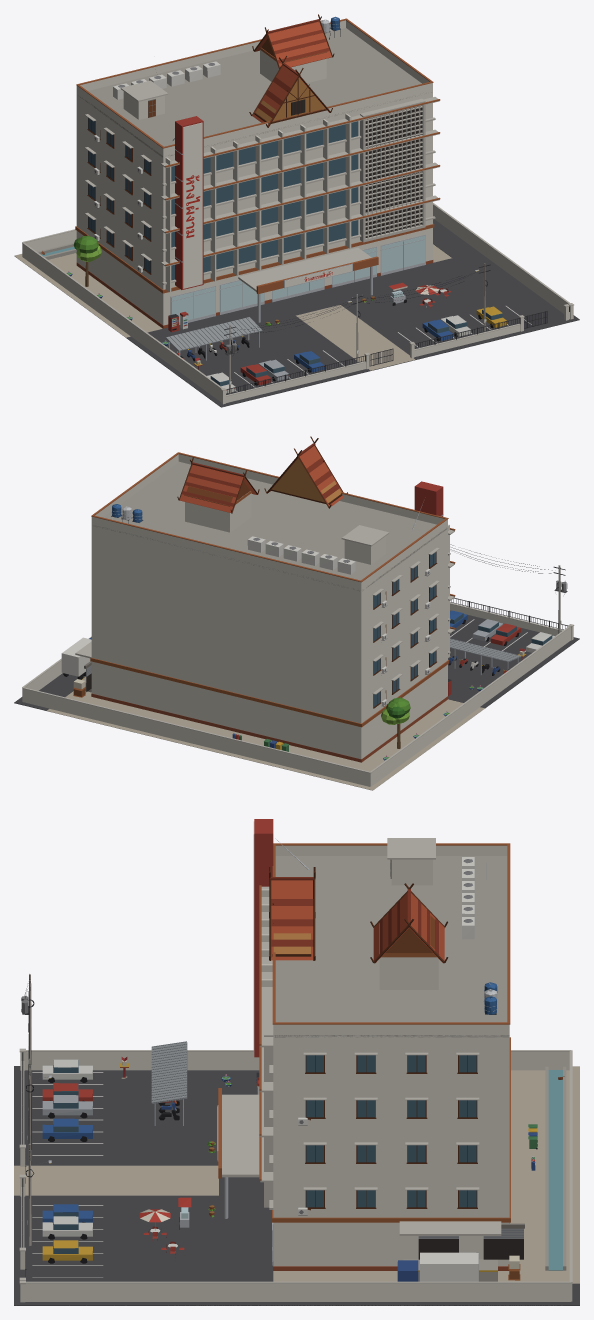
File: store.glb
3 views of the same model, one above another, from view 1: azimuth 30°, elevation 25°; view 2: azimuth 150°, elevation 25°; view 3: azimuth 270°, elevation 25° (orthographic). The views are drawn at different scales.
Parts seen in each view (by area): view 1: body, windows; view 2: body, windows; view 3: body, windows.
Part boxes in pixels (left/top/right/bottom): body: left=14, top=14, right=579, bottom=407; windows: left=88, top=99, right=505, bottom=390; body: left=14, top=436, right=579, bottom=790; windows: left=86, top=552, right=552, bottom=706; body: left=14, top=819, right=579, bottom=1305; windows: left=49, top=821, right=523, bottom=1259.
Bounding box in the file's own units: 47.9 × 29.53 × 47.9.
